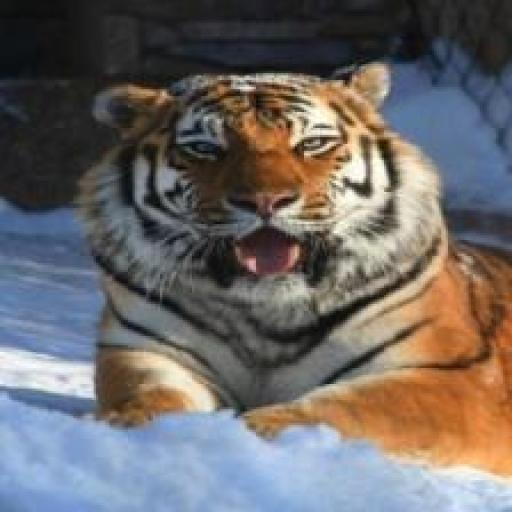Tiger: (59, 57, 512, 464)
